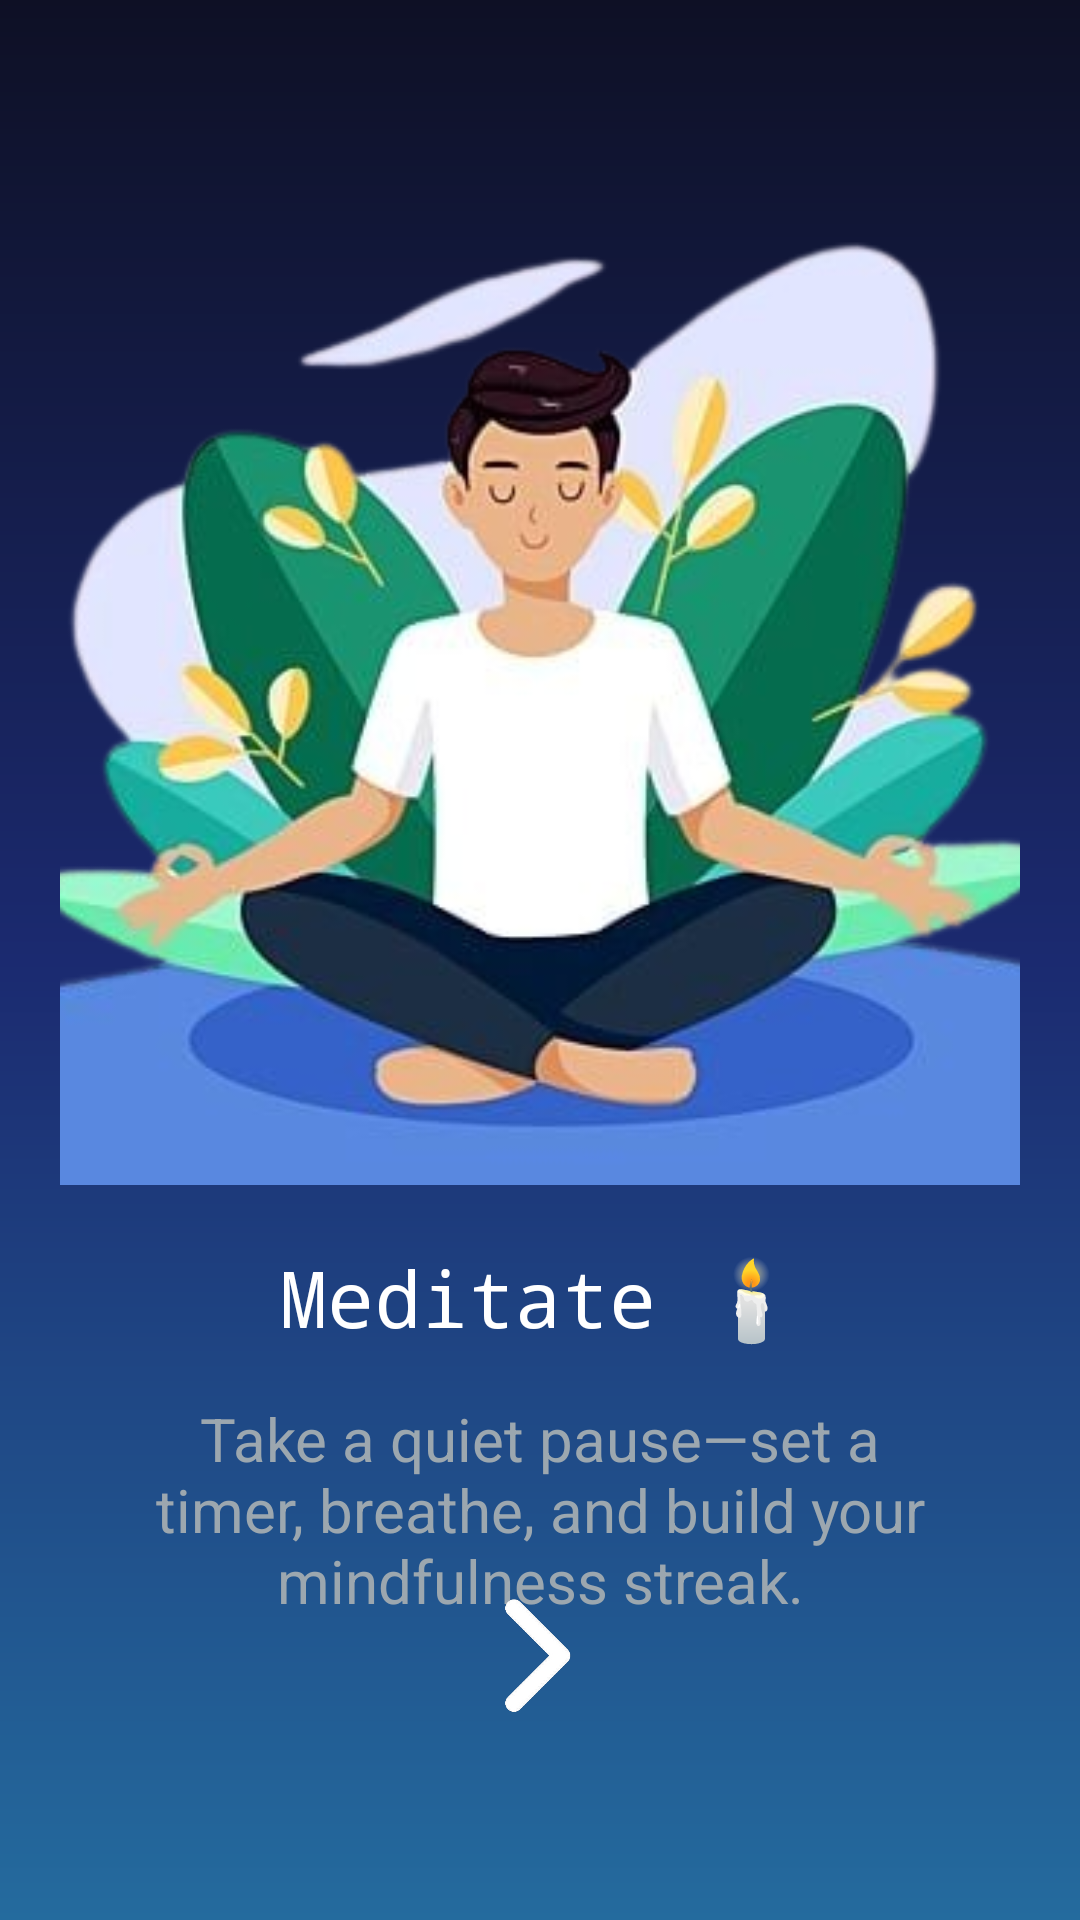

Icon bounding boxes for this 1080w x 1920h phone screenshot, format (x1, y1, x2, y2):
next: (485, 1596, 598, 1712)
